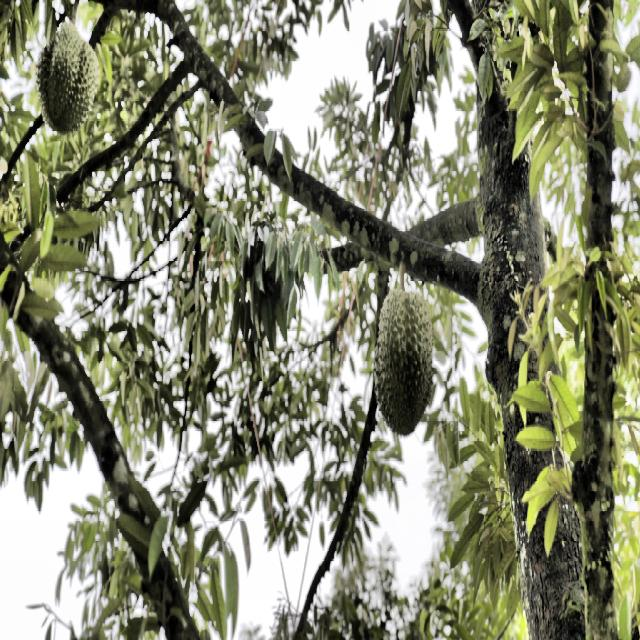arvore: (447, 4, 622, 640)
